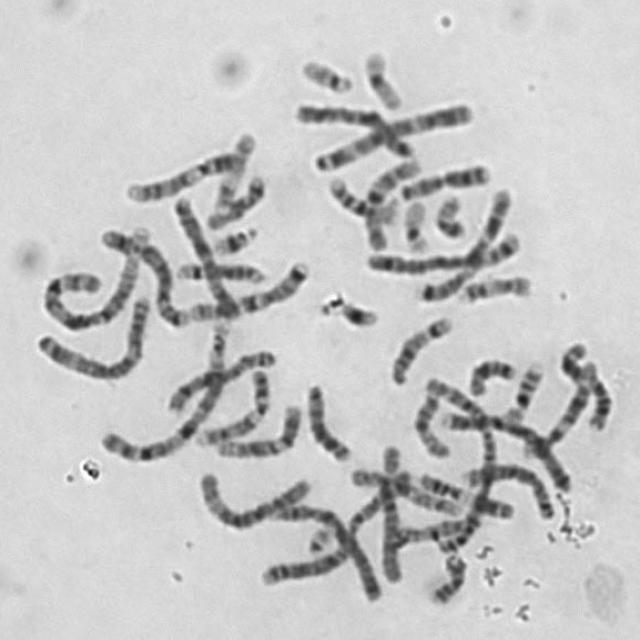A1: (90, 322, 242, 466), (32, 218, 151, 333)
A2: (251, 472, 409, 590), (418, 366, 500, 559)
A3: (303, 92, 478, 173), (29, 287, 154, 382)
B4: (262, 490, 386, 604), (428, 399, 574, 495)
B5: (90, 218, 195, 330), (357, 224, 524, 278)
C10: (356, 149, 424, 253), (343, 460, 467, 517)
C11: (551, 333, 616, 433), (410, 466, 516, 520)
C12: (514, 363, 600, 462), (207, 396, 305, 460)
C6: (190, 463, 314, 532), (344, 458, 407, 584)
C7: (411, 180, 517, 304), (180, 252, 312, 323)
C8: (160, 342, 277, 415), (457, 454, 558, 522)
C9: (117, 140, 250, 204), (187, 360, 274, 448)
D13: (298, 374, 354, 464), (392, 154, 492, 203)
D14: (382, 308, 454, 387), (170, 252, 270, 287)
D15: (167, 191, 242, 322), (406, 382, 454, 460)
E16: (319, 167, 402, 226), (499, 353, 547, 423)
E17: (202, 124, 256, 229), (449, 265, 535, 306)
E18: (198, 166, 268, 232), (462, 349, 519, 397)
F19: (355, 41, 406, 112), (396, 192, 433, 256)
F20: (419, 546, 469, 608), (427, 186, 469, 240)
G21: (203, 217, 260, 257), (329, 290, 382, 330)
G22: (293, 50, 356, 96), (302, 518, 337, 556)
X: (288, 94, 420, 160), (374, 435, 405, 586)
